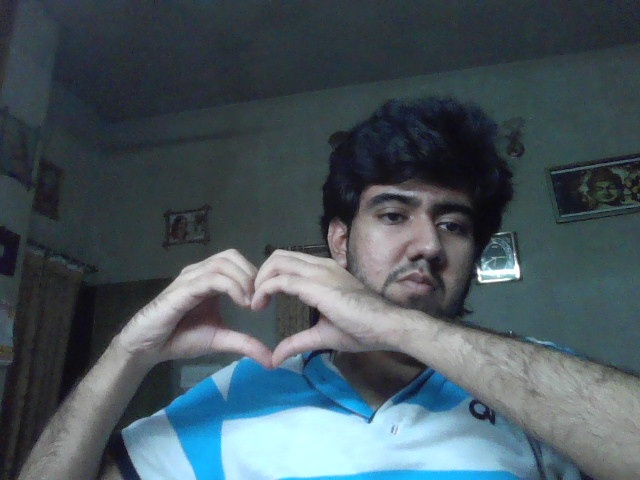Love: (131, 248, 382, 370)
